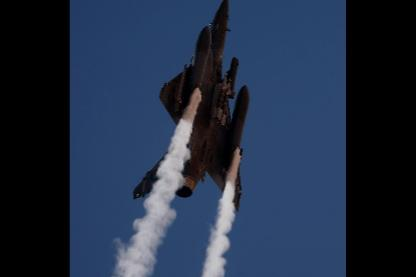Mirage2000: (132, 0, 250, 211)
